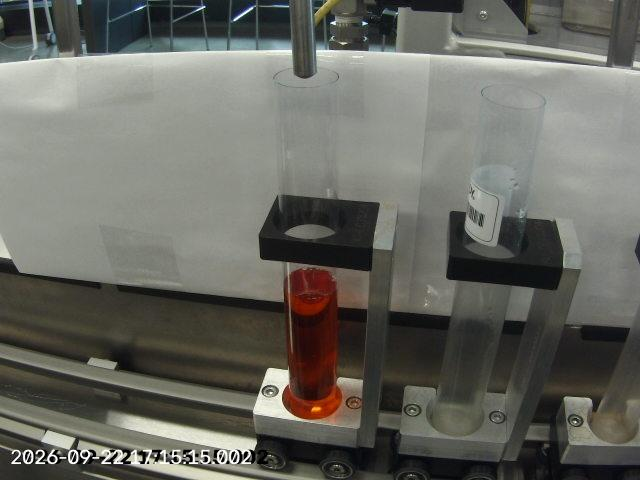vial: (429, 82, 549, 435), (270, 66, 341, 417)
